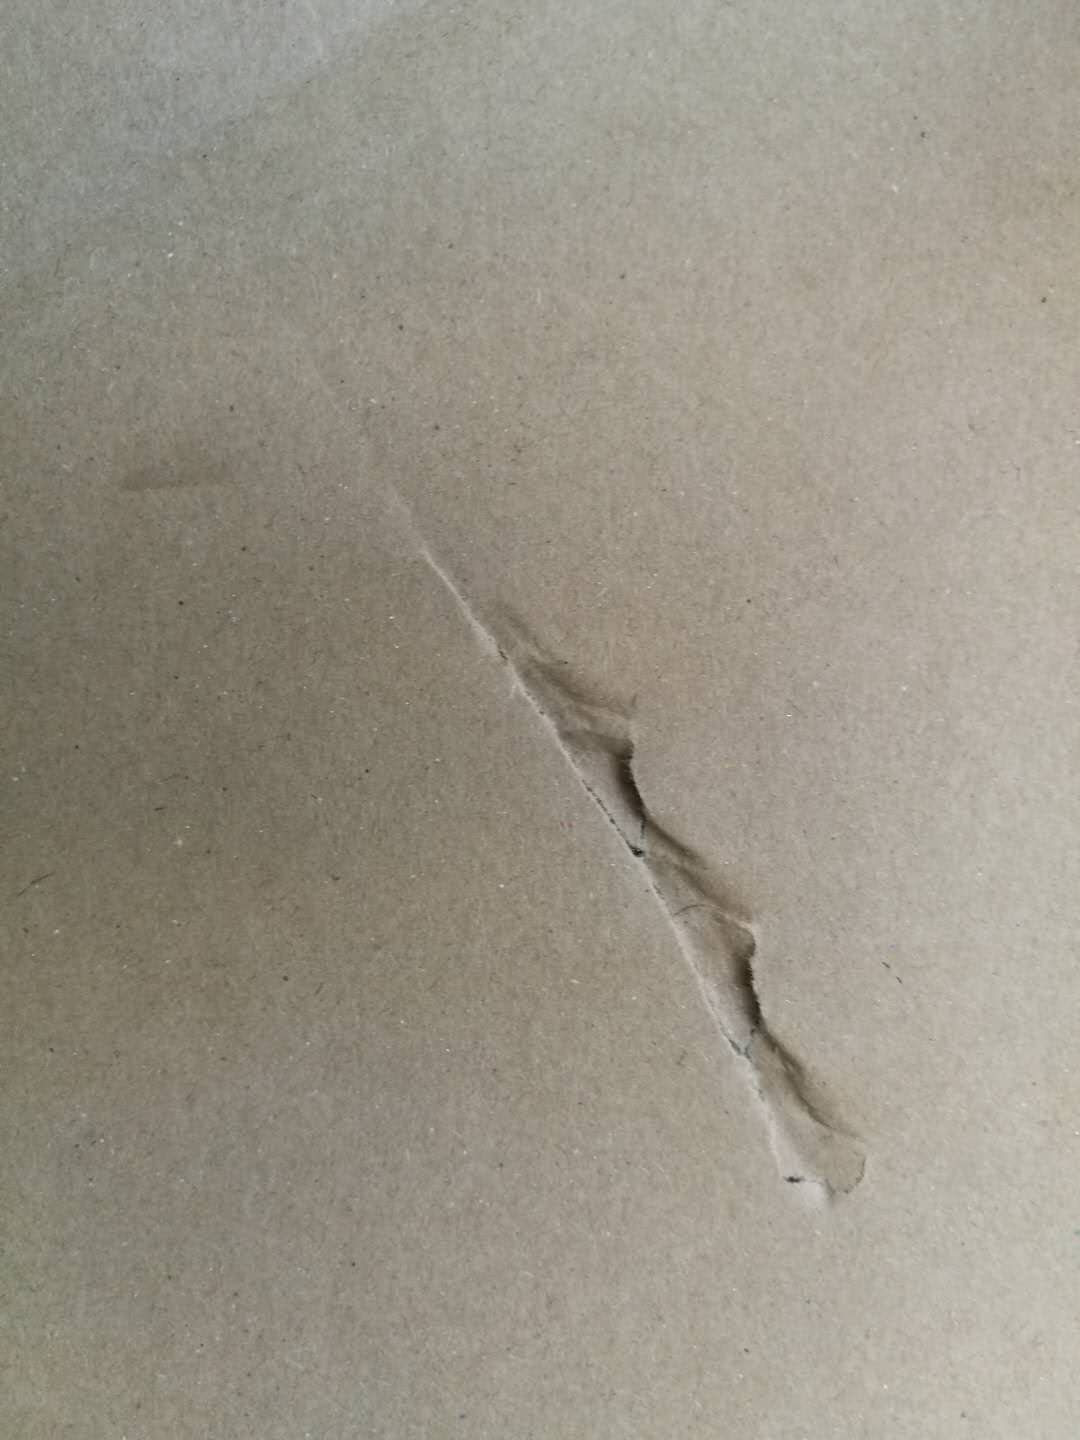defect: (340, 405, 950, 1261)
